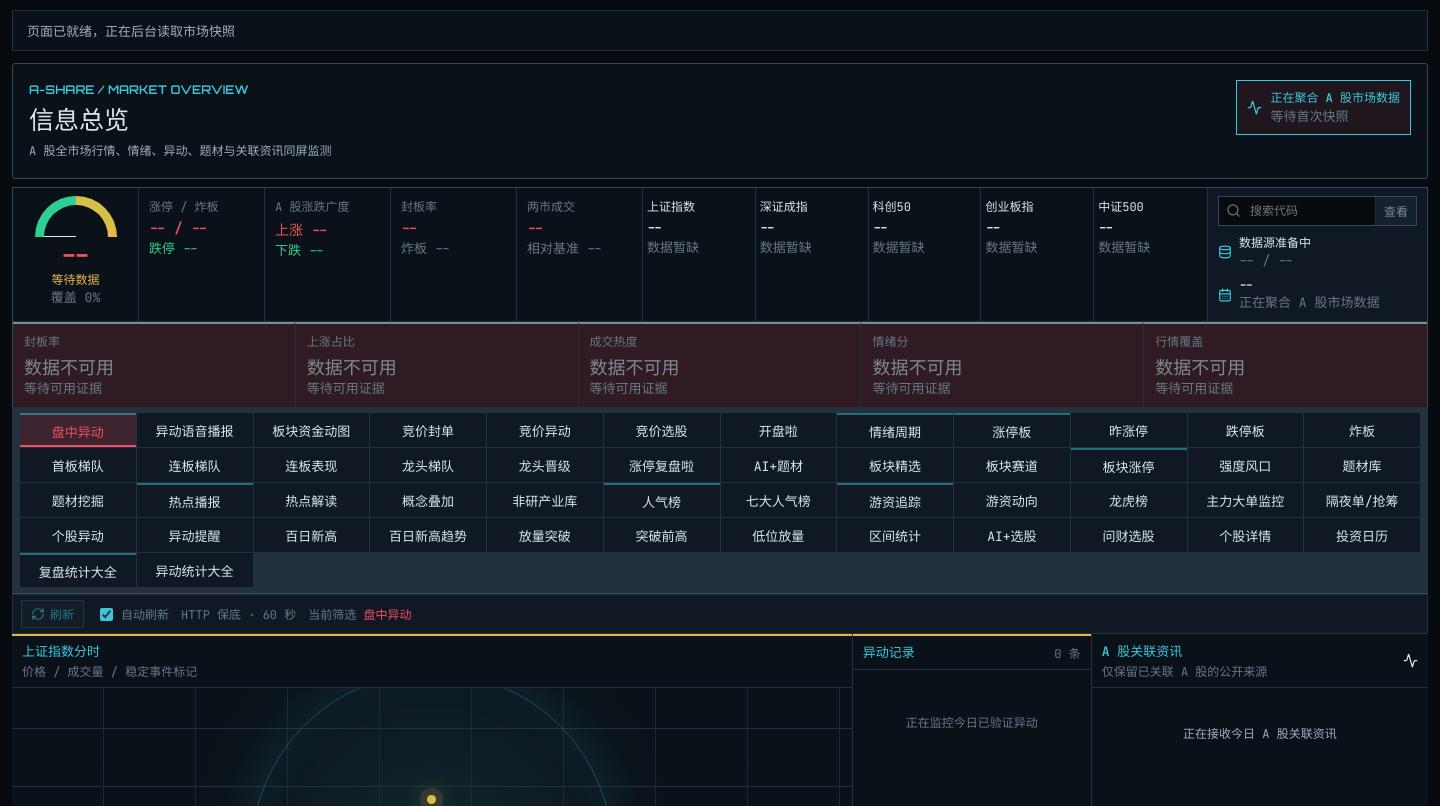
Test: MarketOverviewView › renders a usable page immediately without waiting for market data or progress animation
Expected: the heading "信息总览" is shown, [29,103,129,137]
Expected: the element named "首页后台数据状态" shows "页面已就绪", [27,23,235,40]
Click the button "板块涨停". click: click(1129, 465)
box: [1071,448,1187,482]
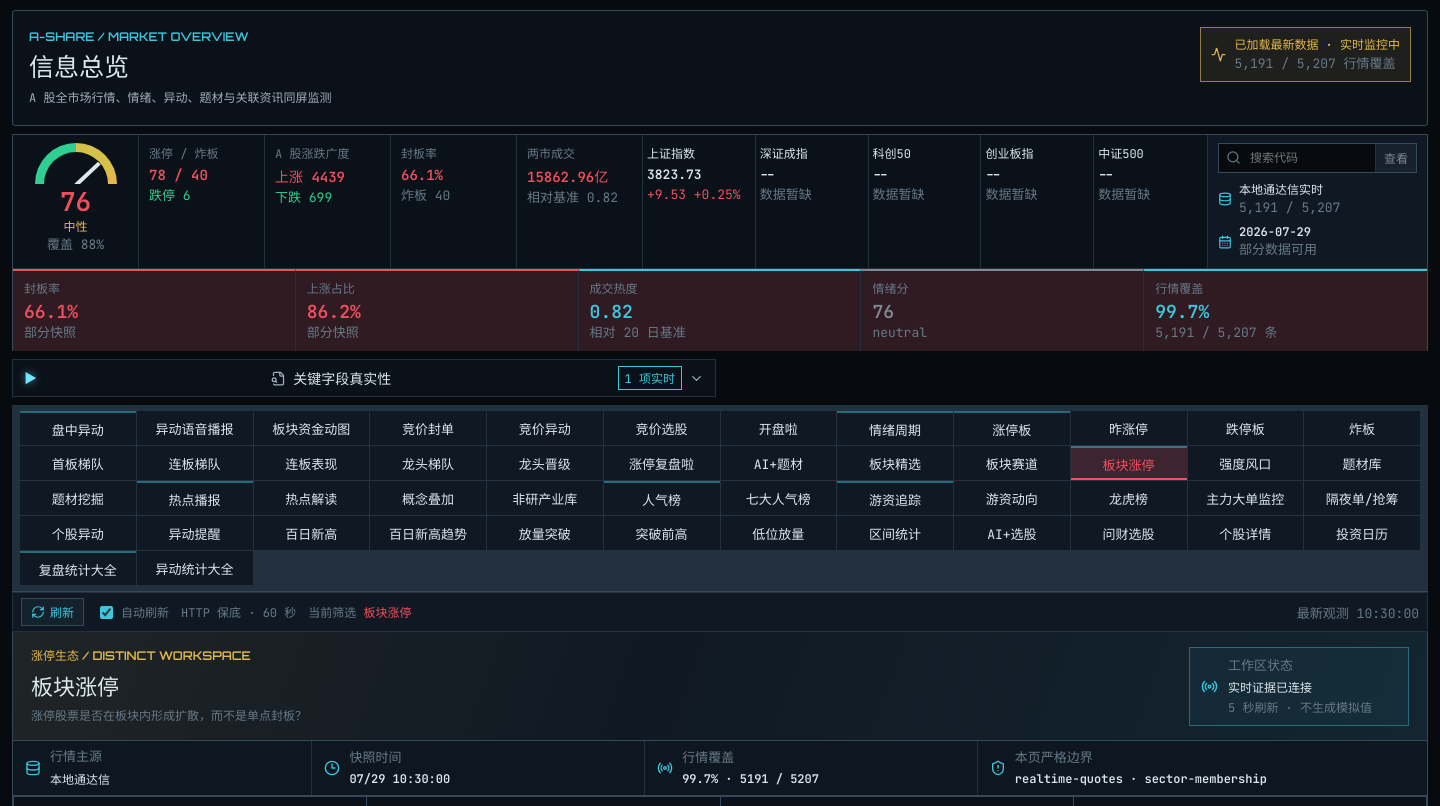
Now the element "首页后台数据状态" is gone
